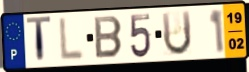1: (208, 8, 226, 56)
5: (129, 12, 152, 59)
B: (93, 15, 124, 60)
L: (59, 16, 86, 63)
T: (25, 15, 53, 66)
U: (160, 9, 193, 57)
